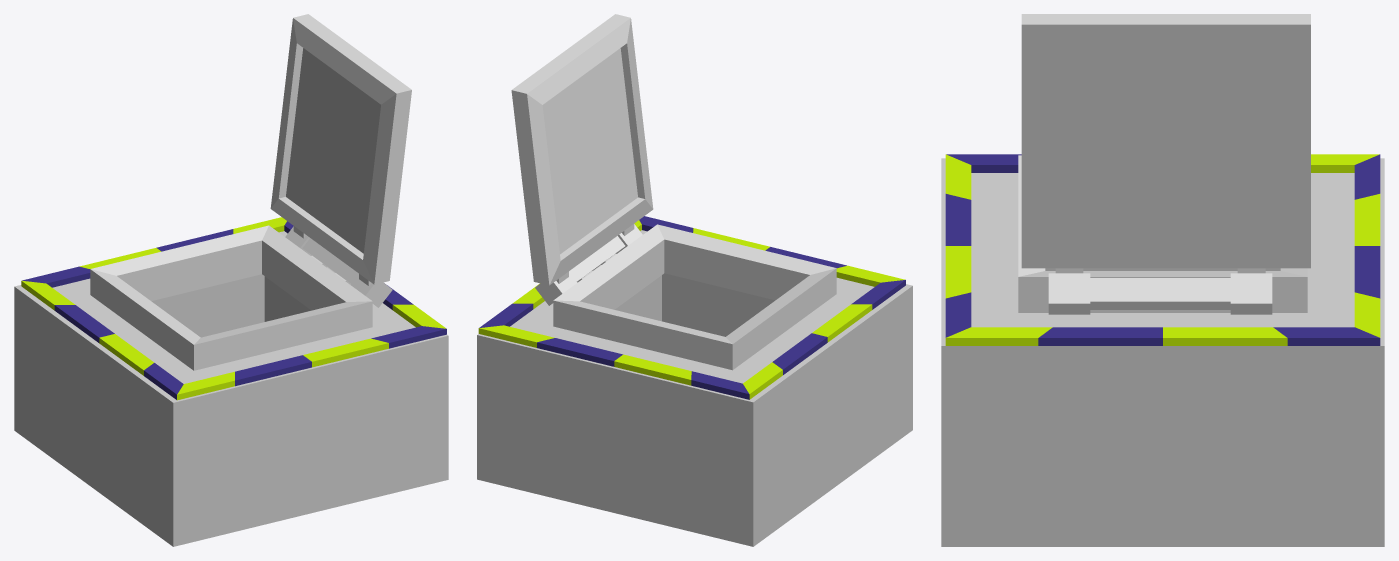
Rendered from EXIT.glb.
3 views of the same model, side by side, from view 1: azimuth 30°, elevation 25°; view 2: azimuth 150°, elevation 25°; view 3: azimuth 270°, elevation 25° (orthographic). The views are drawn at different scales.
Visible parts, largest first — view 1: Cube; view 2: Cube; view 3: Cube.
Boxes of the visible parts, x1,y1,x2,y2 form: Cube: (14, 14, 448, 546); Cube: (477, 14, 912, 546); Cube: (941, 14, 1384, 546).
Bounding box in the file's own units: 2 × 2.57 × 2.
3 materials, 1 textured.
